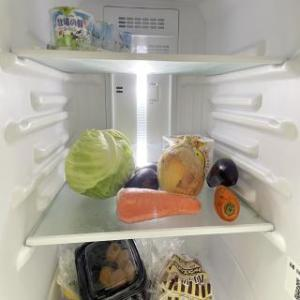cabbage: (66, 132, 134, 200)
carrot: (116, 187, 200, 223), (216, 185, 242, 221)
eggplant: (208, 157, 236, 189), (123, 167, 158, 191), (133, 162, 159, 178)
onion: (158, 137, 205, 201)
